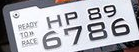6: (41, 30, 63, 51), (110, 17, 131, 37)
7: (63, 25, 85, 47)
8: (86, 21, 109, 42), (86, 7, 103, 21)
9: (104, 4, 118, 18)
H: (46, 14, 63, 30)
P: (64, 11, 79, 25)
